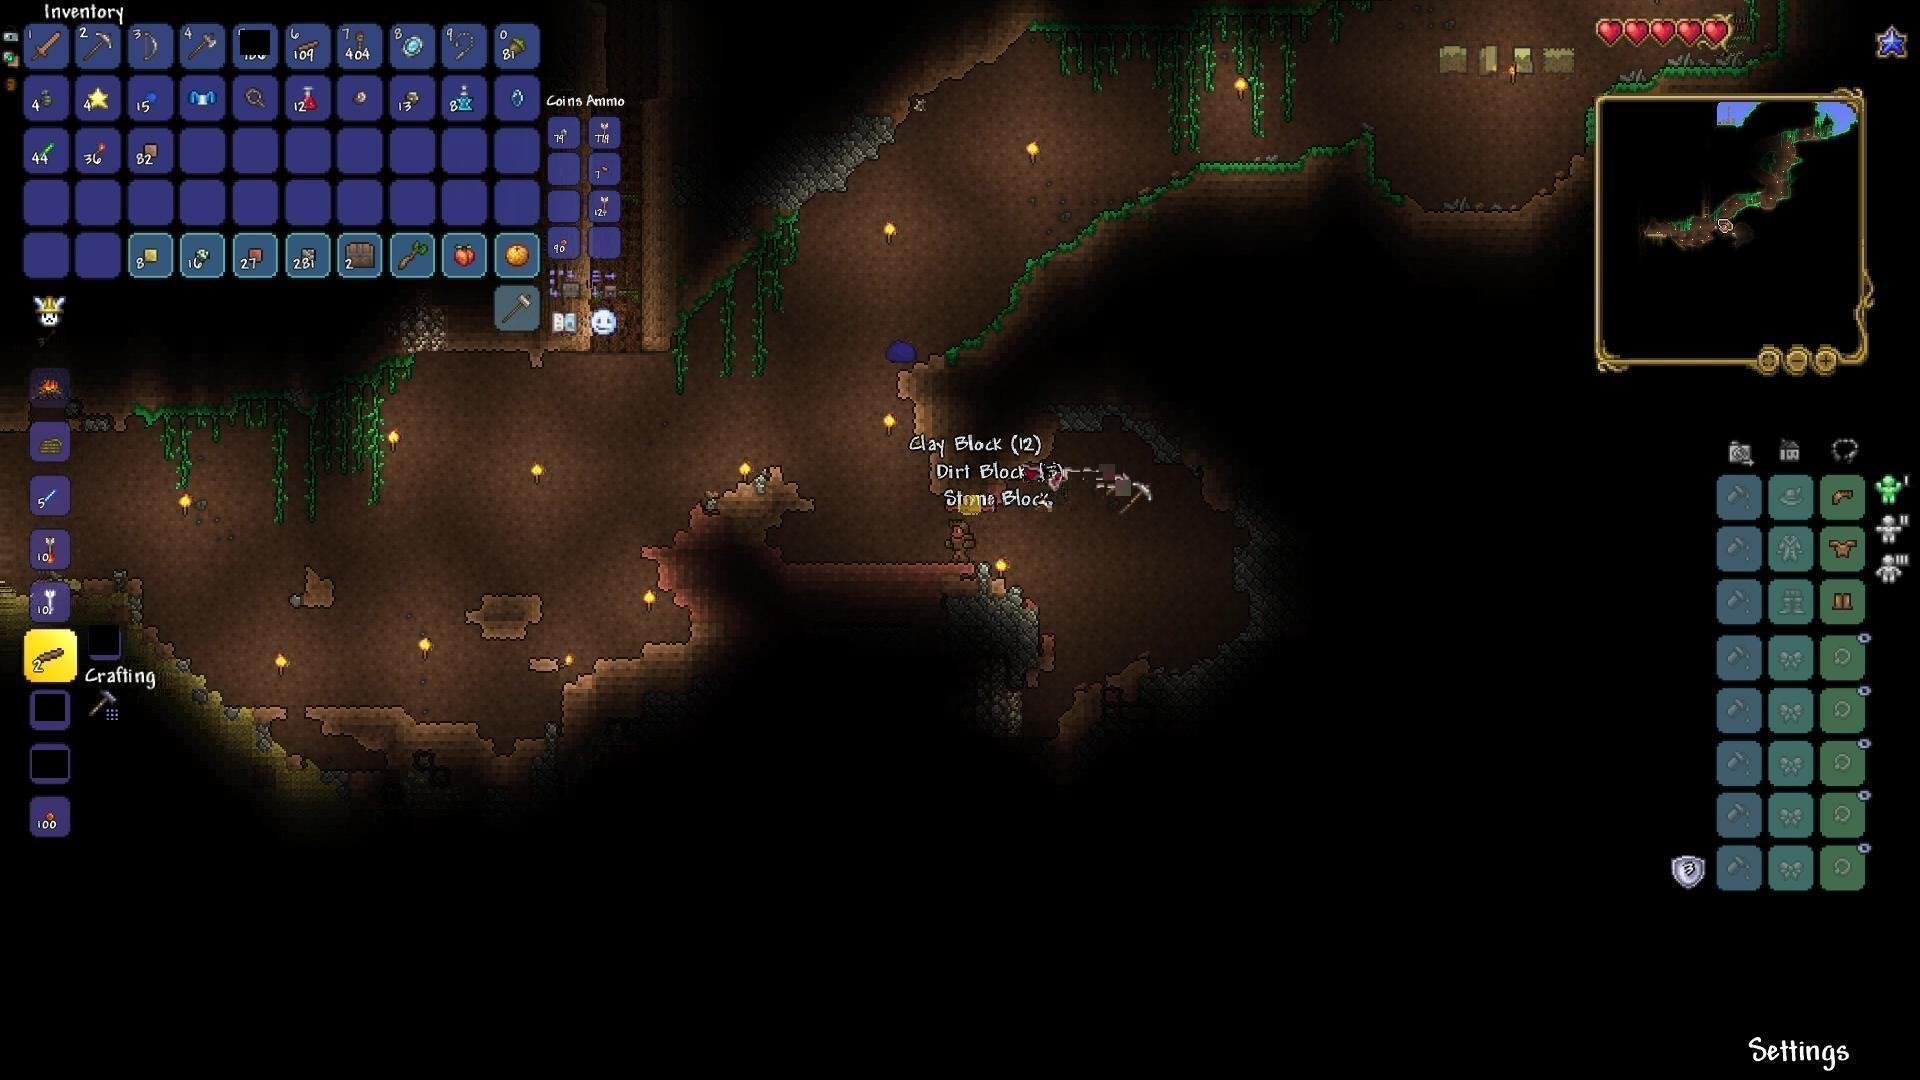breastplate: (1826, 537, 1858, 559)
helmet: (1825, 480, 1859, 512)
legs: (1832, 587, 1857, 617)
slime: (887, 335, 916, 364)
